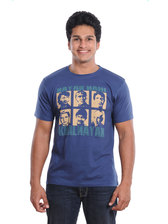clothoes: (32, 63, 134, 188)
